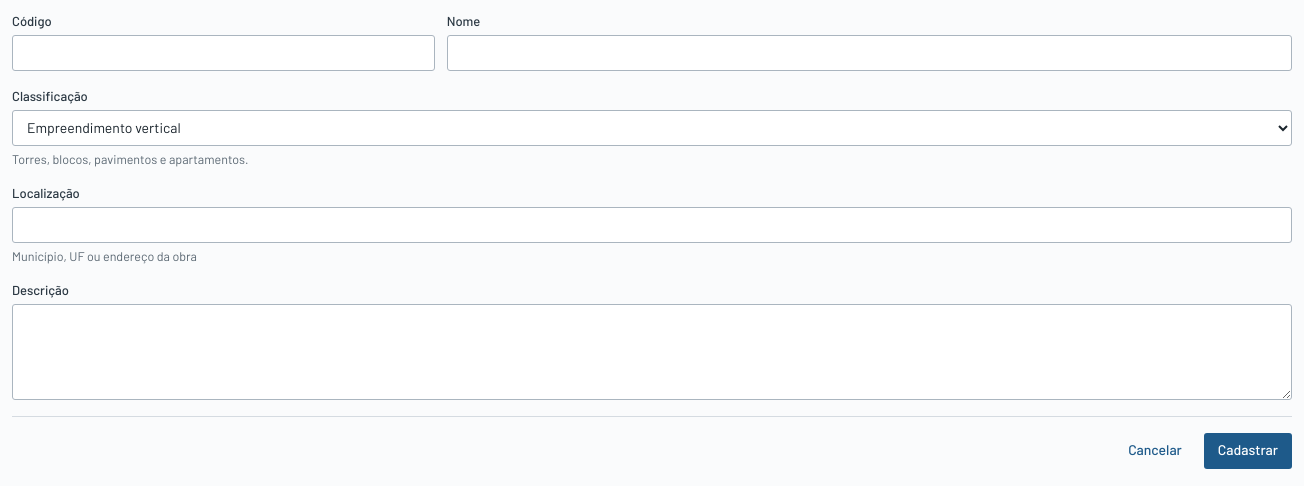
Scenario: ProjectForm › mostra a descrição da classificação selecionada
Select "Empreendimento misto" in the dropdown labelled "Classificação" at (652, 128), box [12,110,1292,146]
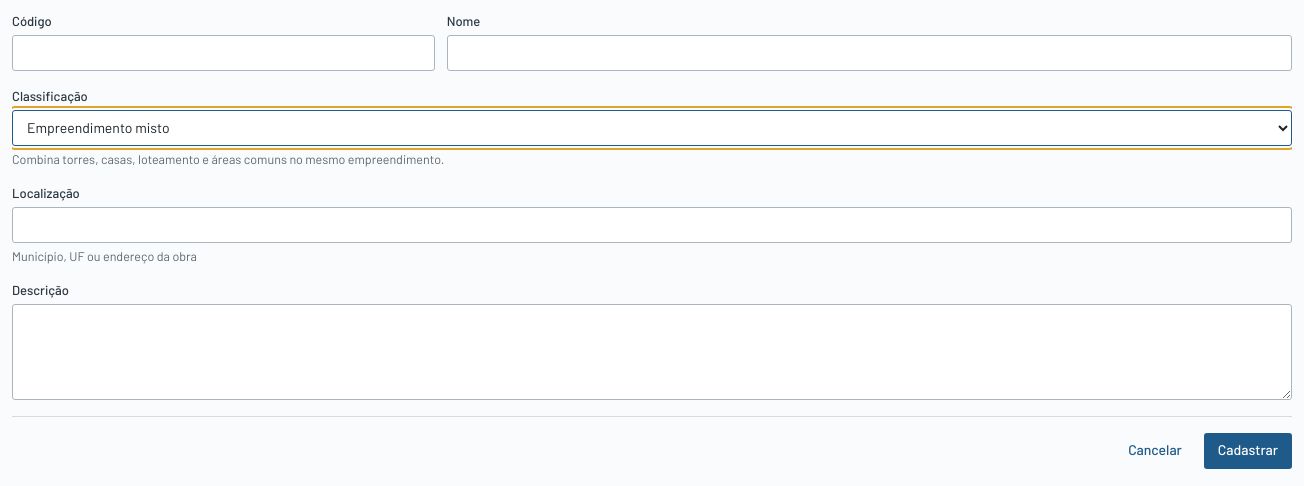
Now the text "Combina torres, casas, loteamento" is shown, box [12,151,444,167]
